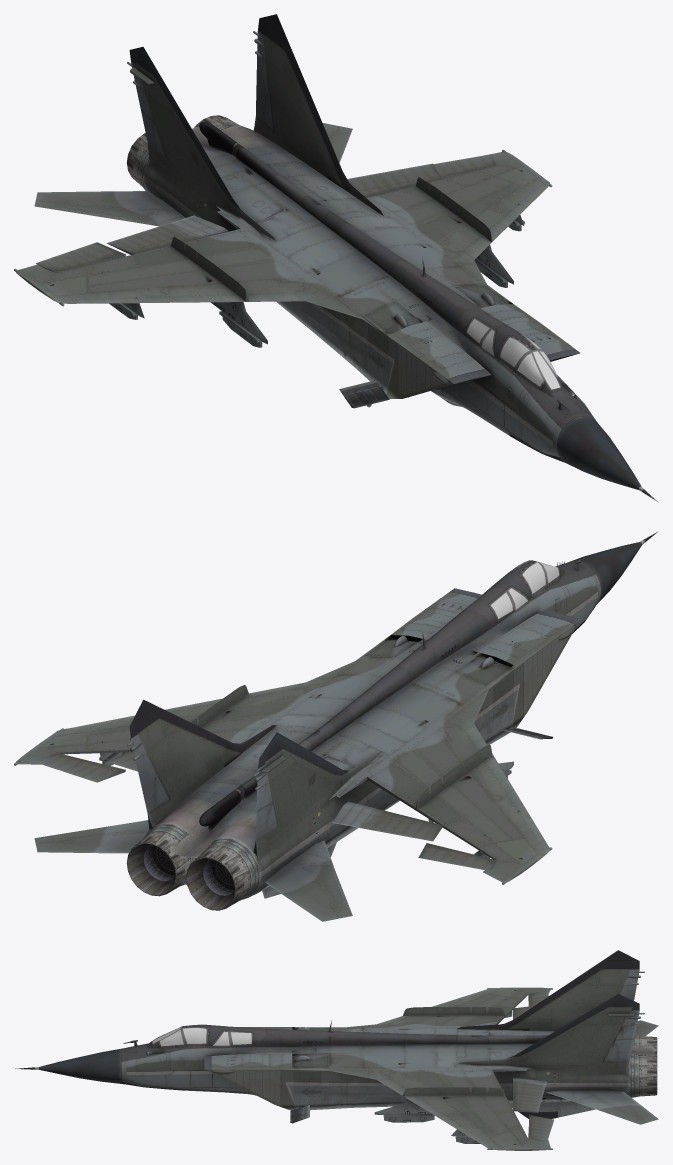
The model's file is Mig-31 Foxhound.FBX.
3 renders of one model, top to bottom at view 1: azimuth 30°, elevation 25°; view 2: azimuth 150°, elevation 25°; view 3: azimuth 270°, elevation 25°, orthographic. The views are drawn at different scales.
Visible parts, largest first — view 1: LOD0, ElevatorR01, FlapR01, FlapL01, AileronR01, Glass, RudderL01, IntakeR01, AileronL01, Canopy01, Canopy02, RudderR01; view 2: LOD0, ElevatorR01, ElevatorL01, FlapR01, AileronL01, RudderL01, AileronR01, RudderR01, Canopy02, EngineR01, EngineL01, Canopy01; view 3: LOD0, ElevatorL01, FlapL01, RudderL01, AileronL01, Canopy01, Glass, Canopy02, Glass_Canopy01.
Boxes of the visible parts, box(x1,y1,x2,y2) form: LOD0: box(14, 14, 658, 502); ElevatorR01: box(34, 191, 185, 226); FlapR01: box(106, 215, 228, 254); FlapL01: box(347, 163, 441, 197); AileronR01: box(35, 242, 125, 272); Glass: box(482, 330, 560, 389); RudderL01: box(256, 55, 274, 131); IntakeR01: box(339, 380, 389, 408); AileronL01: box(433, 154, 496, 178); Canopy01: box(493, 326, 541, 372); Canopy02: box(459, 308, 506, 346); RudderR01: box(136, 85, 165, 157); LOD0: box(14, 532, 657, 910); ElevatorR01: box(265, 840, 352, 921); ElevatorL01: box(34, 820, 149, 853); FlapR01: box(332, 801, 442, 841); AileronL01: box(35, 753, 125, 782); RudderL01: box(135, 753, 169, 813); AileronR01: box(418, 843, 496, 871); RudderR01: box(256, 783, 278, 839); Canopy02: box(463, 586, 514, 627); EngineR01: box(202, 858, 235, 895); EngineL01: box(143, 844, 175, 881); Canopy01: box(496, 560, 546, 600); LOD0: box(15, 950, 657, 1150); ElevatorL01: box(546, 1090, 658, 1124); FlapL01: box(512, 1078, 546, 1112); RudderL01: box(602, 1025, 636, 1061); AileronL01: box(528, 1115, 553, 1141); Canopy01: box(181, 1024, 224, 1048); Glass: box(152, 1027, 229, 1046); Canopy02: box(228, 1026, 266, 1047); Glass_Canopy01: box(183, 1028, 206, 1043).
Size of the model in its own units: 13.03 by 5.07 by 21.94.
